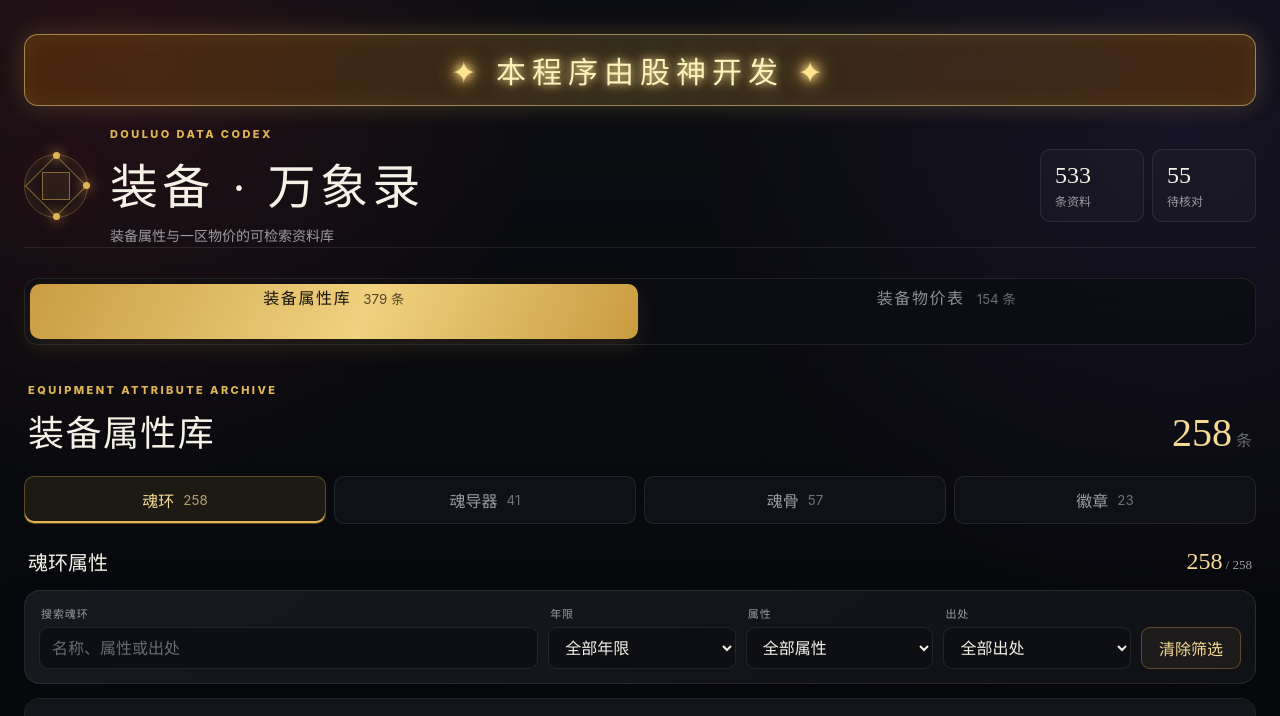
dashboard modules › switches among soul rings, soul devices, soul bones and badges
Click the button "魂导器 41" at [485, 500], box top-left (334, 476), bottom-right (636, 524)
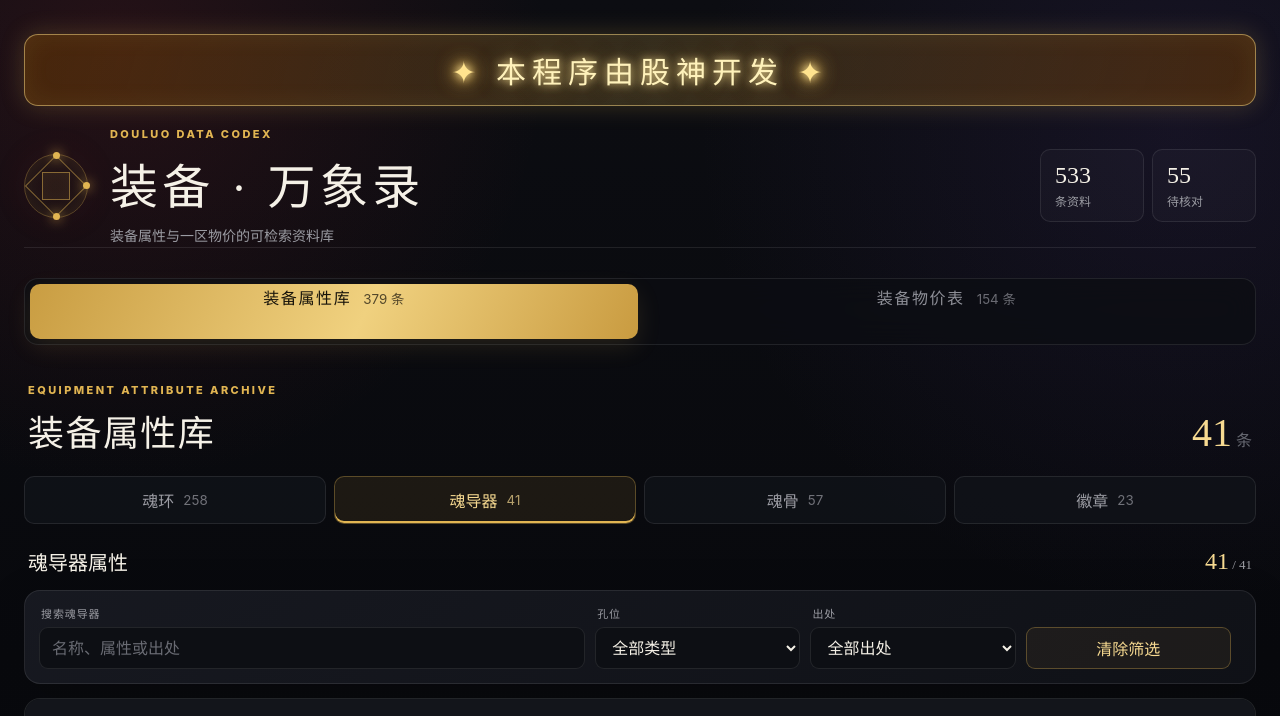
Click the button "魂骨 57" at [795, 500], box top-left (644, 476), bottom-right (946, 524)
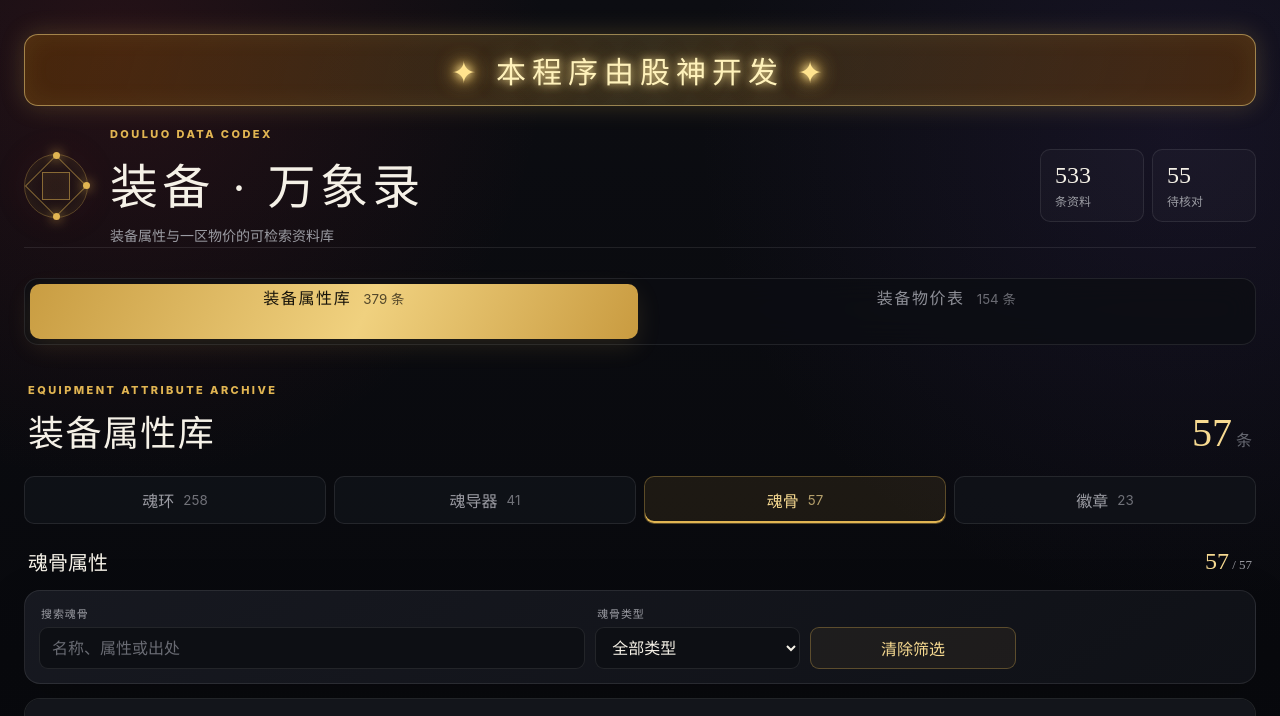
Click the button "徽章 23" at [1105, 500], box top-left (954, 476), bottom-right (1256, 524)
(page scrolled)
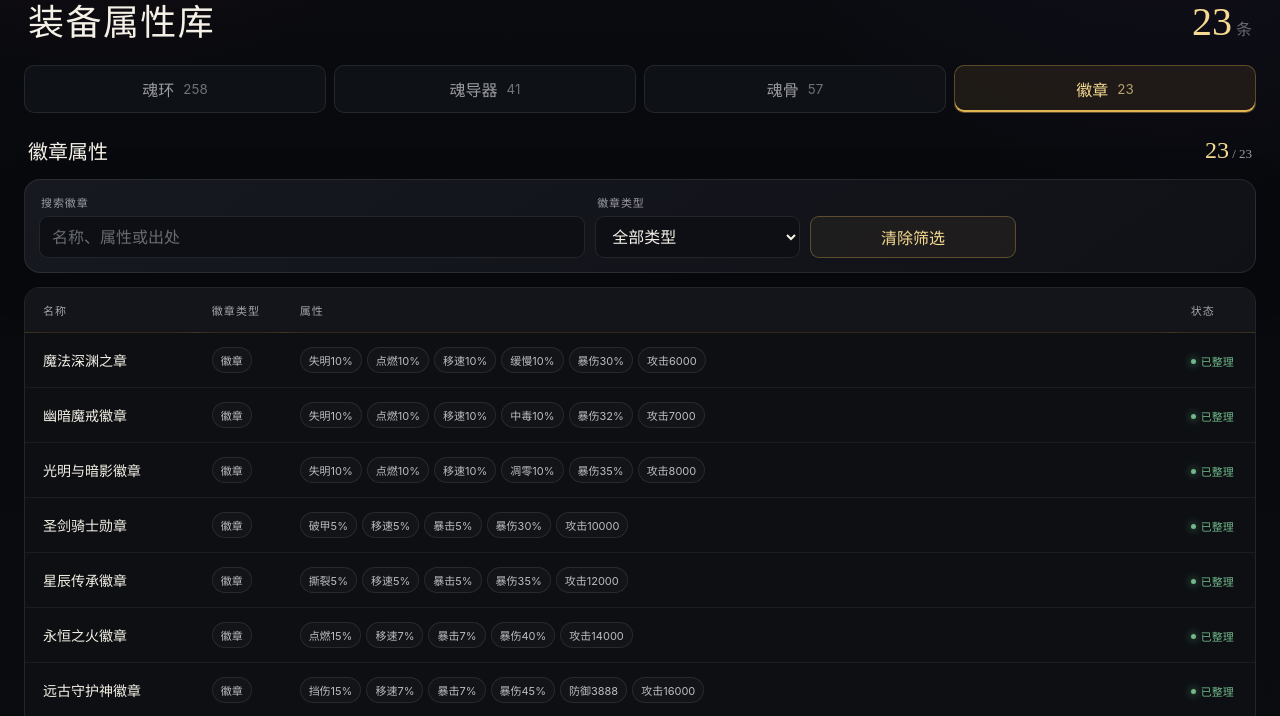
Result: the text "魔法深渊之章" is shown at top-left (43, 352), bottom-right (127, 369)
